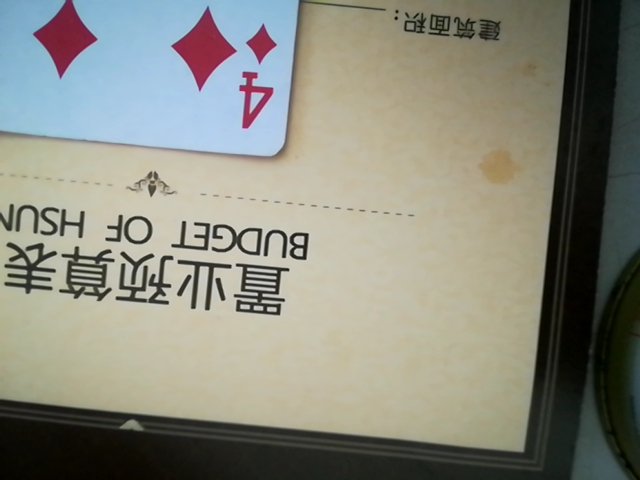fk 4: (0, 1, 330, 160)
